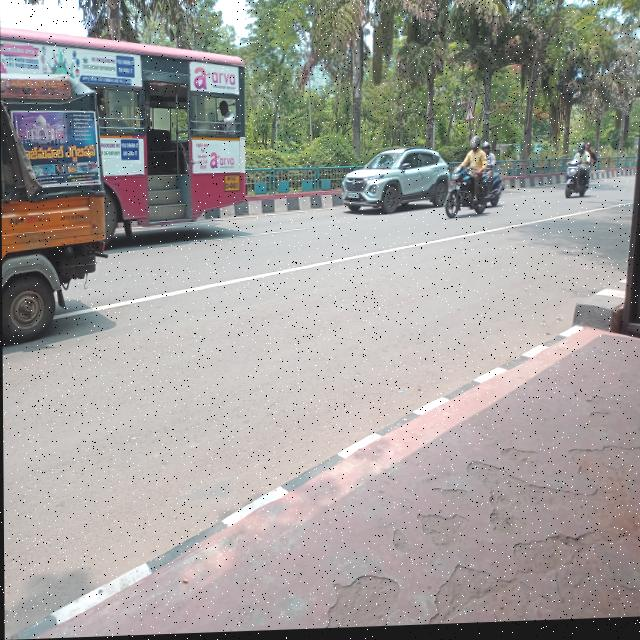bike: (447, 161, 492, 227), (562, 162, 595, 207)
bus: (78, 30, 271, 246)
car: (322, 145, 451, 227)
